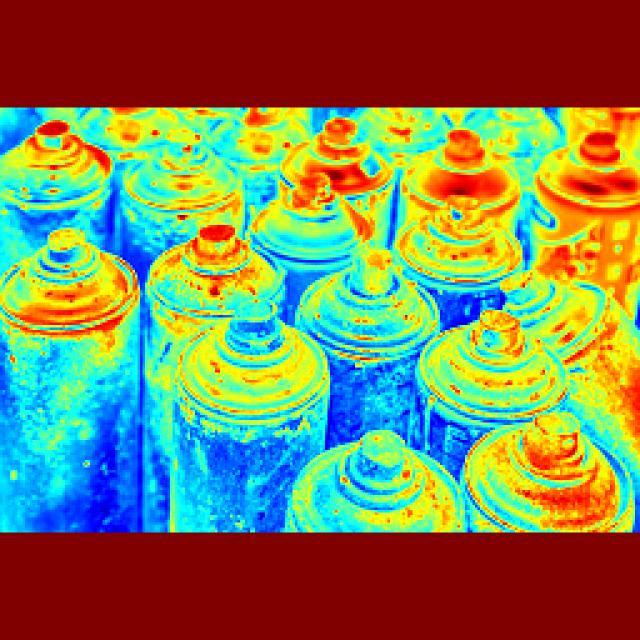Aerosol Cans: (0, 238, 147, 532), (180, 309, 320, 542), (296, 246, 442, 438), (469, 404, 637, 551), (297, 416, 470, 553), (418, 301, 572, 434), (135, 212, 283, 341), (112, 122, 241, 239), (401, 198, 528, 298), (6, 118, 108, 230), (257, 178, 373, 274)
